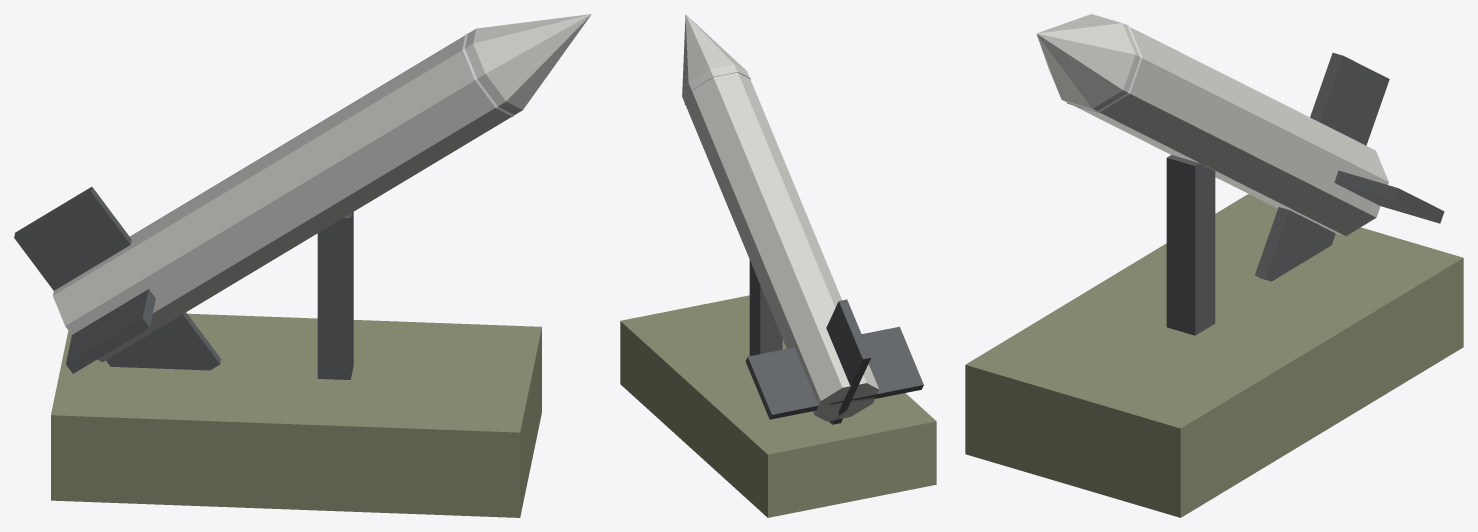
The model's file is guided-missile.glb.
3 renders of one model, left to right at view 1: azimuth 30°, elevation 25°; view 2: azimuth 150°, elevation 25°; view 3: azimuth 270°, elevation 25°, orthographic. The views are drawn at different scales.
Parts seen in each view (by area): view 1: LOD0; view 2: LOD0; view 3: LOD0.
Boxes of the visible parts, bbox=[...] form: LOD0: bbox=[14, 14, 591, 517]; LOD0: bbox=[620, 14, 936, 517]; LOD0: bbox=[965, 14, 1463, 517].
Size of what is drawn, in the model's own units: 0.675 by 0.637 by 0.6063.
